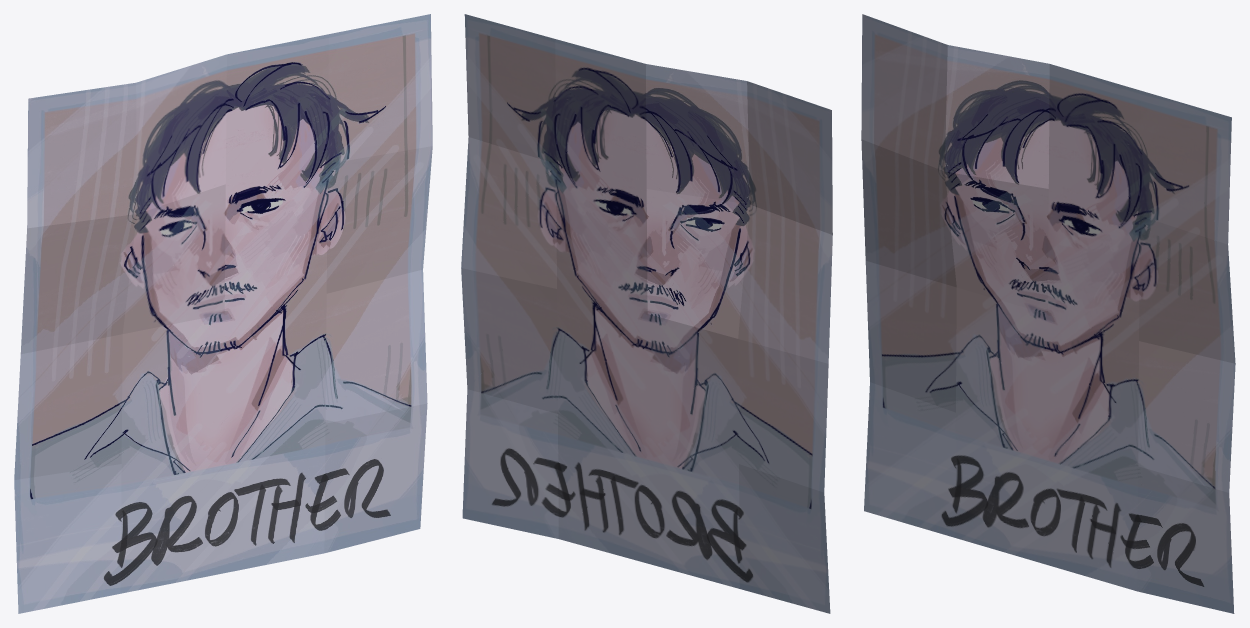
The model's file is BrotherPolaroid.fbx.
The picture shows the model from 3 angles, left to right: view 1: azimuth 30°, elevation 25°; view 2: azimuth 150°, elevation 25°; view 3: azimuth 330°, elevation 25°; orthographic projection. The views are drawn at different scales.
Visible parts, largest first — view 1: Plane.002; view 2: Plane.002; view 3: Plane.002.
Boxes of the visible parts, <box> form: Plane.002: <box>14,14,432,613</box>; Plane.002: <box>461,14,832,613</box>; Plane.002: <box>861,14,1235,613</box>.
Bounding box in the file's own units: 142 × 179 × 15.18.
1 material, 1 textured.
